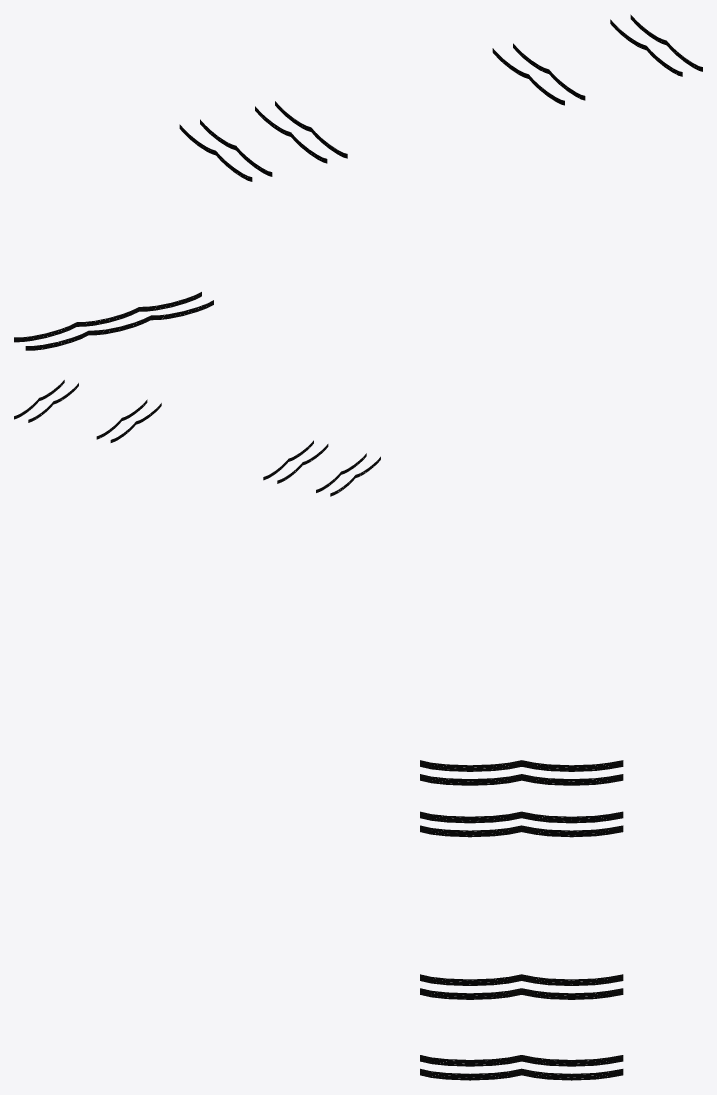
The model's file is vgsewires04_lvs.obj.
The picture shows the model from 3 angles, top to bottom: view 1: azimuth 30°, elevation 25°; view 2: azimuth 150°, elevation 25°; view 3: azimuth 270°, elevation 25°; orthographic projection. The views are drawn at different scales.
Parts seen in each view (by area): view 1: vgsEwires04_lvs; view 2: vgsEwires04_lvs; view 3: vgsEwires04_lvs.
Boxes of the visible parts, <box> form: vgsEwires04_lvs: <box>14,14,702,350</box>; vgsEwires04_lvs: <box>14,380,380,496</box>; vgsEwires04_lvs: <box>420,760,623,1080</box>.
Size of the model in its own units: 221 by 2.24 by 91.13.
1 material, 1 textured.
